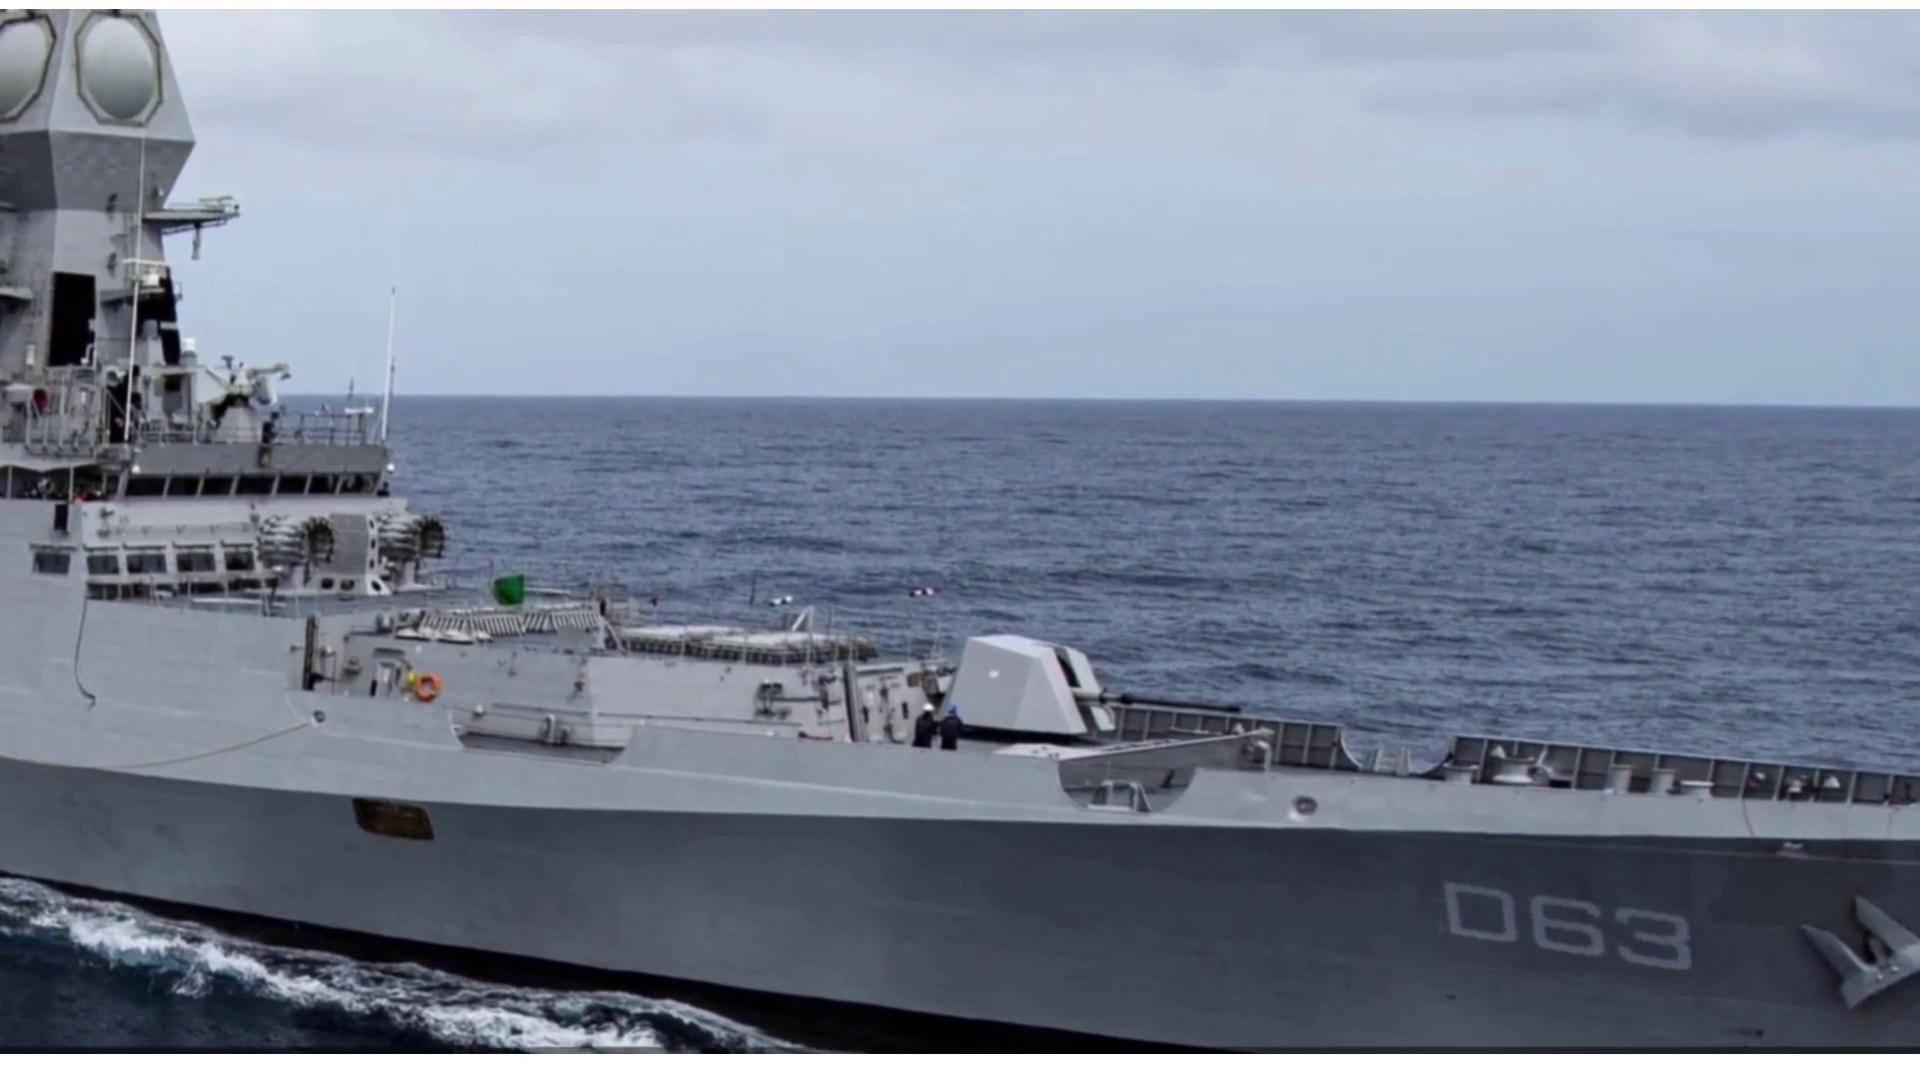OCR: (1429, 866, 1692, 971)
